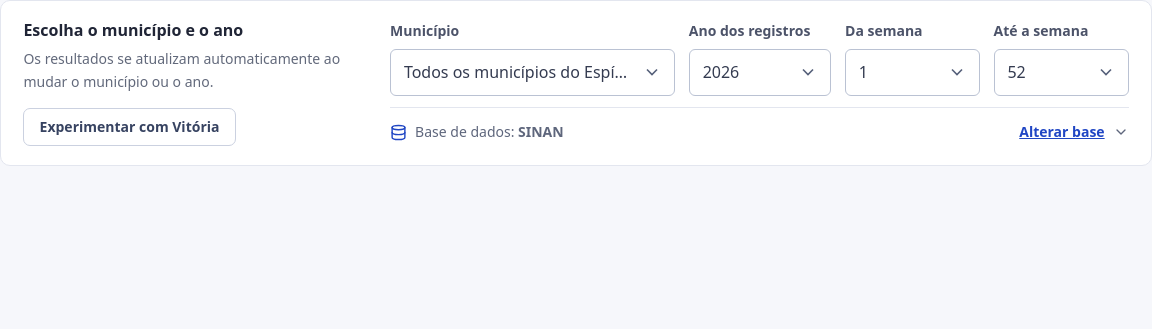
it: filtros do histórico › seleciona um ano válido ao trocar para a base SESA, que tem outro período
Click the text "Alterar base" at (1062, 132), box x1=1019 y1=121 x2=1105 y2=143
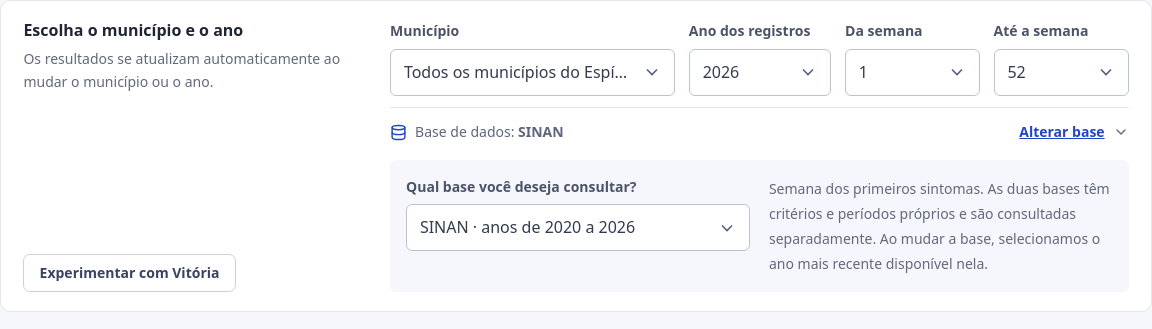
Select "SESA/e-SUS VS · anos de 2020 a 2024" in the dropdown labelled "Qual base você deseja consultar?" at (578, 228), box x1=406 y1=204 x2=750 y2=251
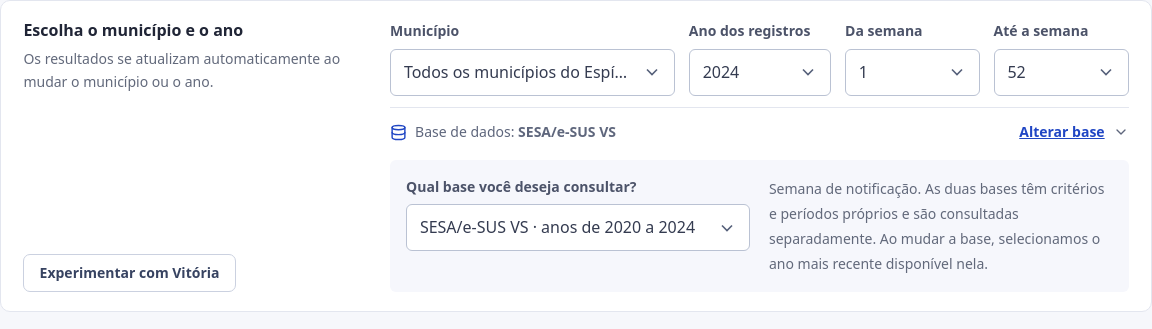
Expected: the dropdown labelled "Ano dos registros" shows "2024", x1=689 y1=49 x2=831 y2=96
Expected: the text "SESA/e-SUS VS" is shown, x1=518 y1=122 x2=616 y2=141
